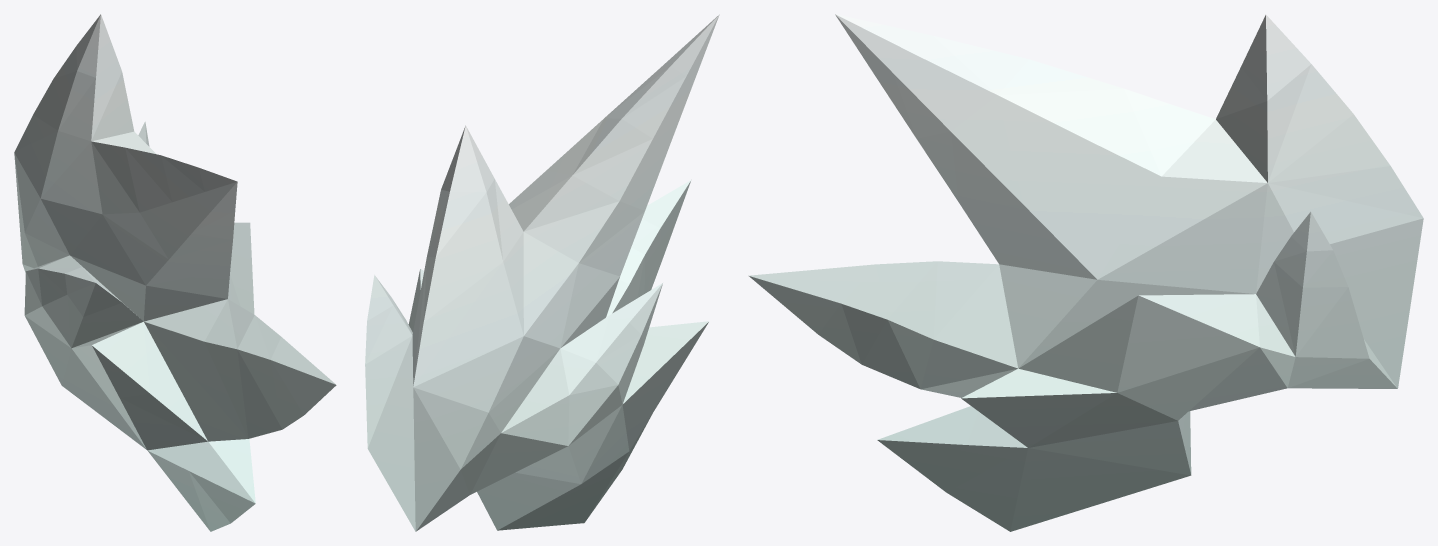
Rendered from CharSkyKid_Hair_PunkTall.glb.
3 views of the same model, side by side, from view 1: azimuth 30°, elevation 25°; view 2: azimuth 150°, elevation 25°; view 3: azimuth 270°, elevation 25° (orthographic). The views are drawn at different scales.
Parts seen in each view (by area): view 1: CharSkyKid_Hair_PunkTall; view 2: CharSkyKid_Hair_PunkTall; view 3: CharSkyKid_Hair_PunkTall.
Part boxes in pixels (x1=…): CharSkyKid_Hair_PunkTall: x1=14, y1=14, x2=336, y2=531; CharSkyKid_Hair_PunkTall: x1=365, y1=14, x2=719, y2=531; CharSkyKid_Hair_PunkTall: x1=748, y1=14, x2=1423, y2=531.
Bounding box in the file's own units: 1.62 × 3.24 × 3.84.
1 material, 1 textured.
